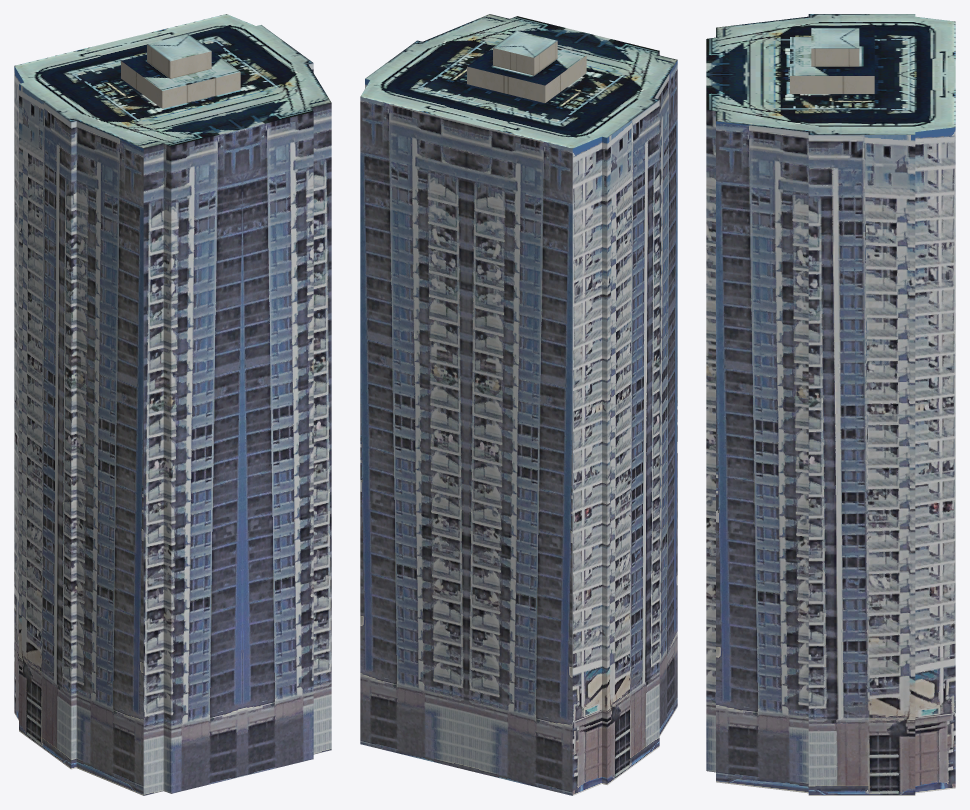
File: Highrise8.gltf
3 renders of one model, left to right at view 1: azimuth 30°, elevation 25°; view 2: azimuth 150°, elevation 25°; view 3: azimuth 270°, elevation 25°, orthographic. The views are drawn at different scales.
Parts seen in each view (by area): view 1: Highrise8; view 2: Highrise8; view 3: Highrise8.
Part boxes in pixels (x1,y1,x2,y2): Highrise8: (14, 14, 331, 795); Highrise8: (360, 14, 677, 795); Highrise8: (706, 14, 955, 795).
Size of the model in its own units: 43.11 by 116 by 37.59.
1 material, 1 textured.
